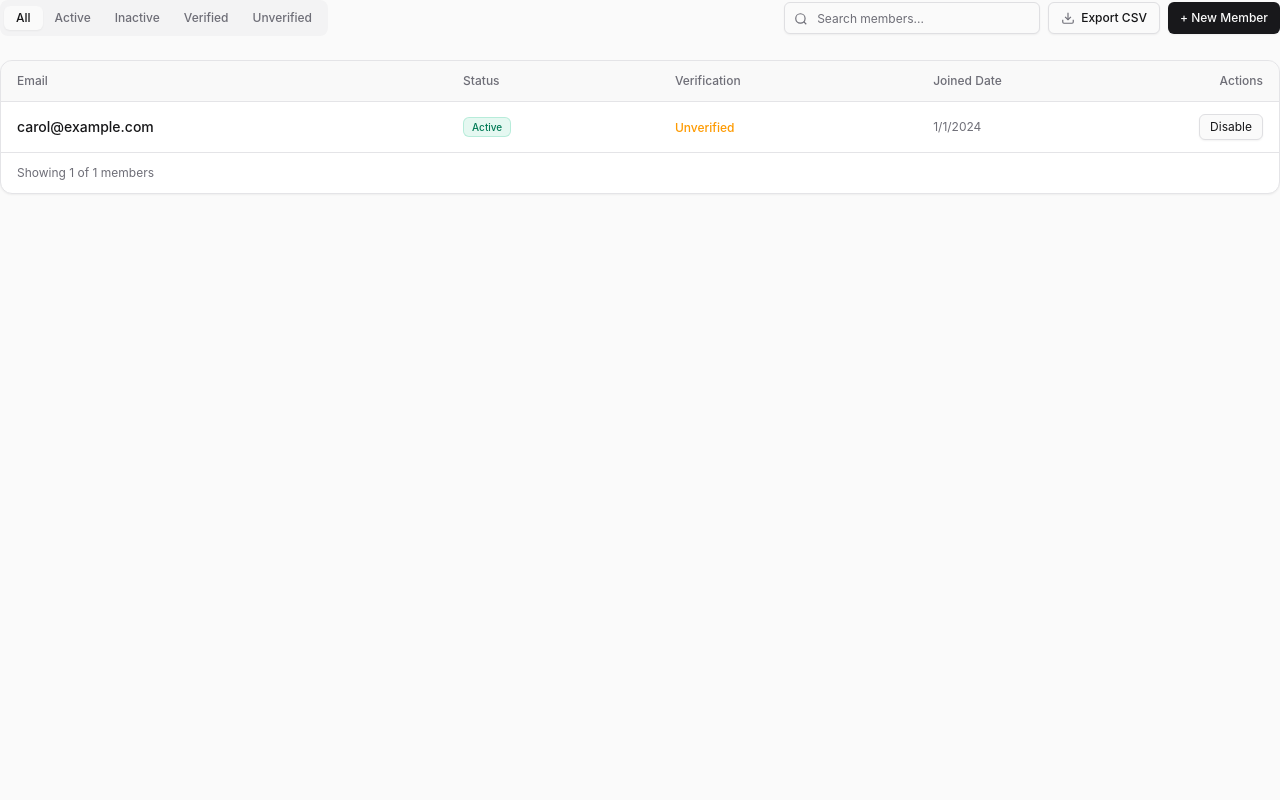
MembersView › opens the detail modal and marks the email verified
Click the text "carol@example.com".
click(85, 126)  # box [1,101,447,152]
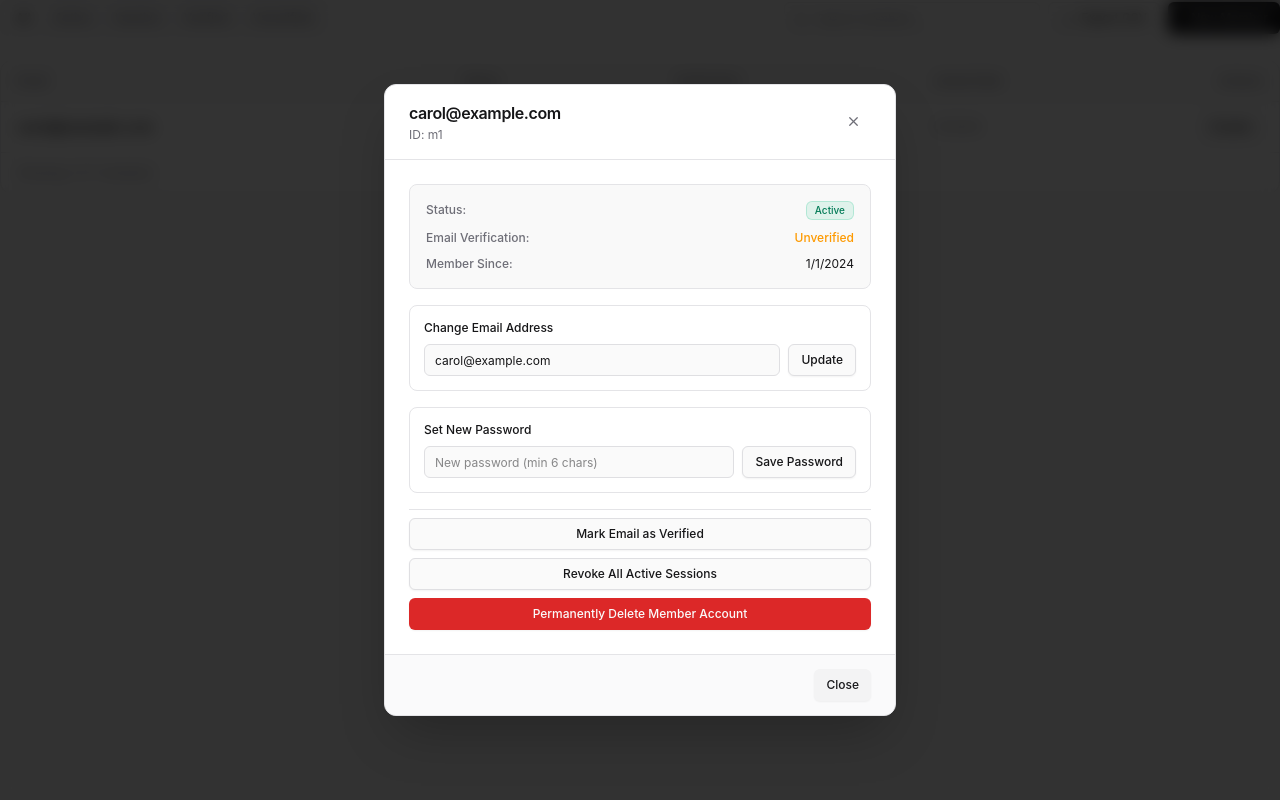
Click the button "Mark Email as Verified".
click(640, 534)  # box [409,518,871,550]
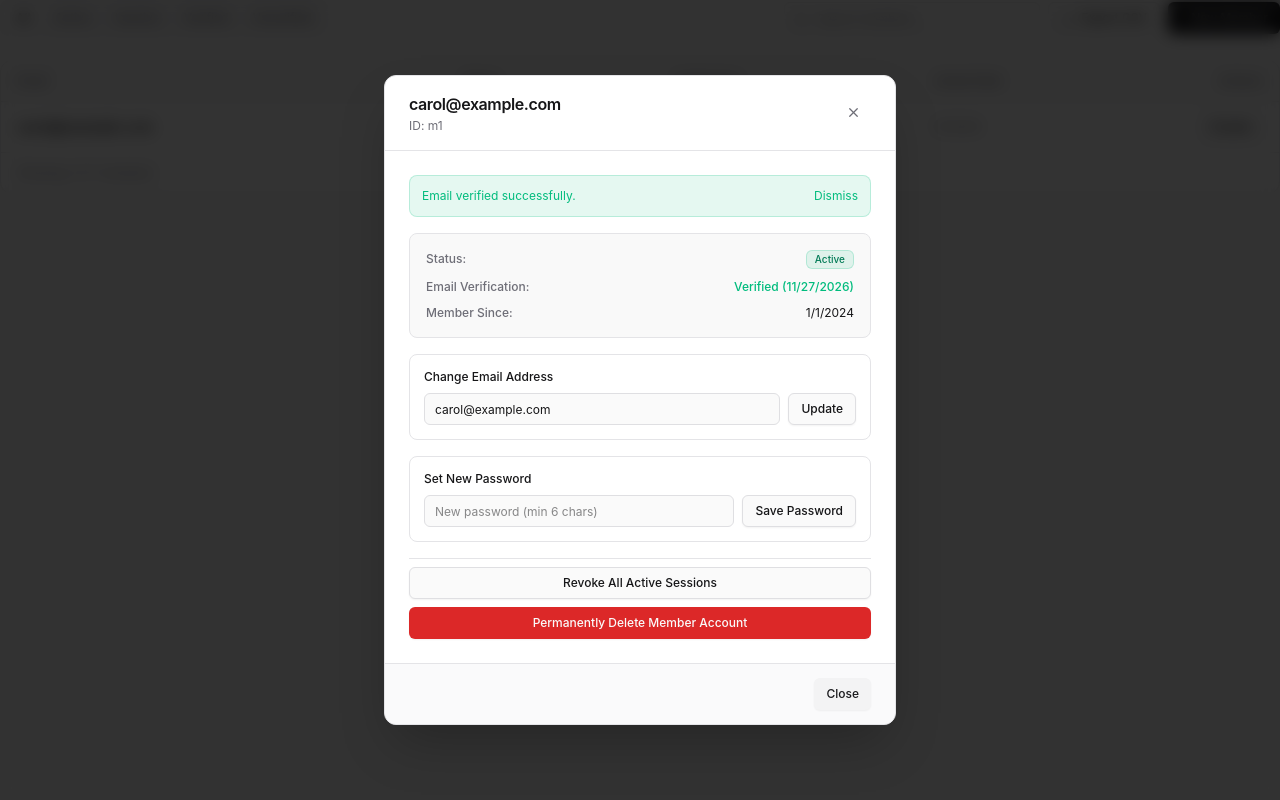
Expected: the text "Email verified successfully." is shown, [422,188,576,204]
